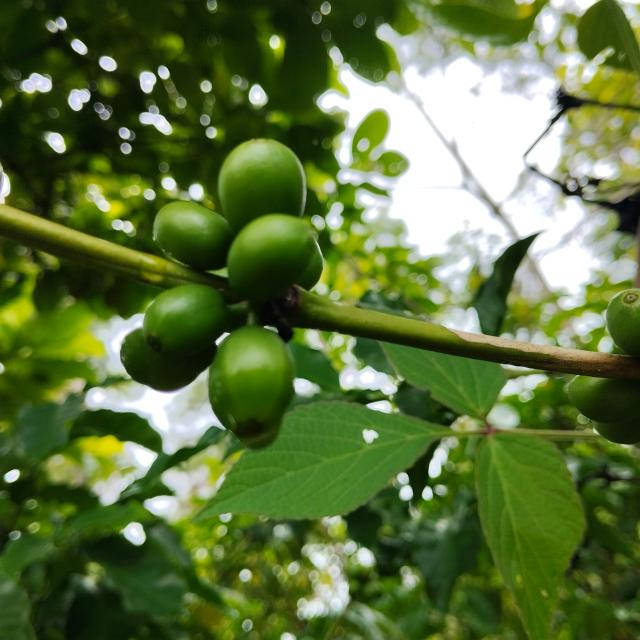green: (208, 326, 294, 438), (218, 138, 306, 233), (227, 214, 316, 300), (142, 285, 228, 358), (119, 329, 216, 392), (152, 201, 233, 270), (568, 376, 640, 424), (607, 288, 640, 358), (296, 242, 324, 290), (593, 418, 640, 445)
